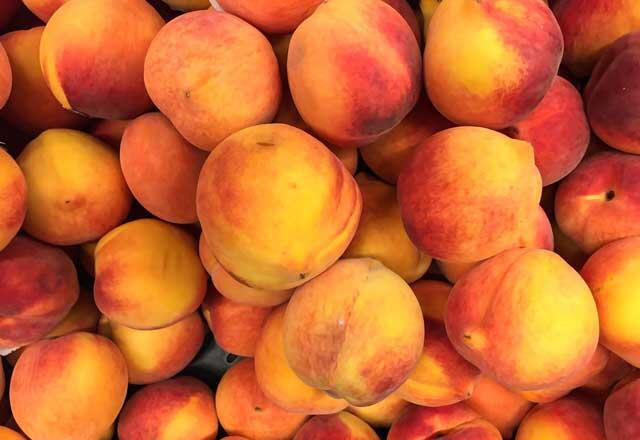Peach: (195, 123, 359, 290), (440, 248, 609, 392), (392, 123, 548, 270), (289, 1, 429, 145), (286, 259, 427, 399), (89, 219, 212, 322)
